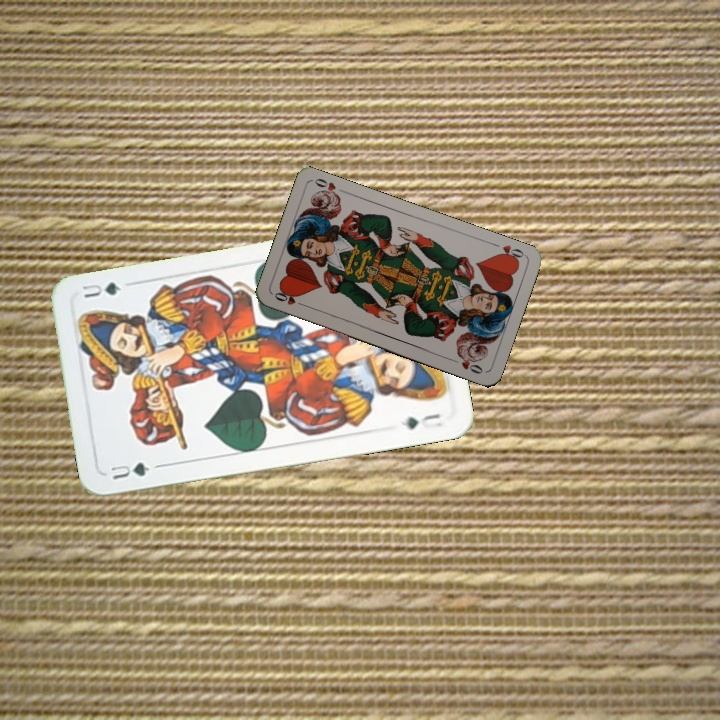GU: (106, 458, 153, 483)
HO: (488, 239, 527, 265), (270, 288, 309, 310)
